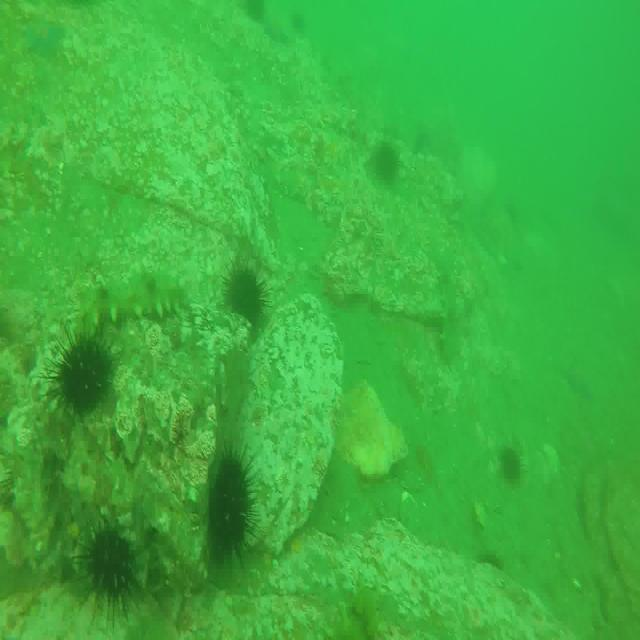echinus: (52, 334, 110, 408), (85, 526, 132, 613), (210, 454, 248, 558), (224, 260, 264, 324), (496, 443, 526, 481), (371, 142, 395, 182)
holothurian: (81, 267, 193, 324)
starfish: (561, 356, 594, 397)
